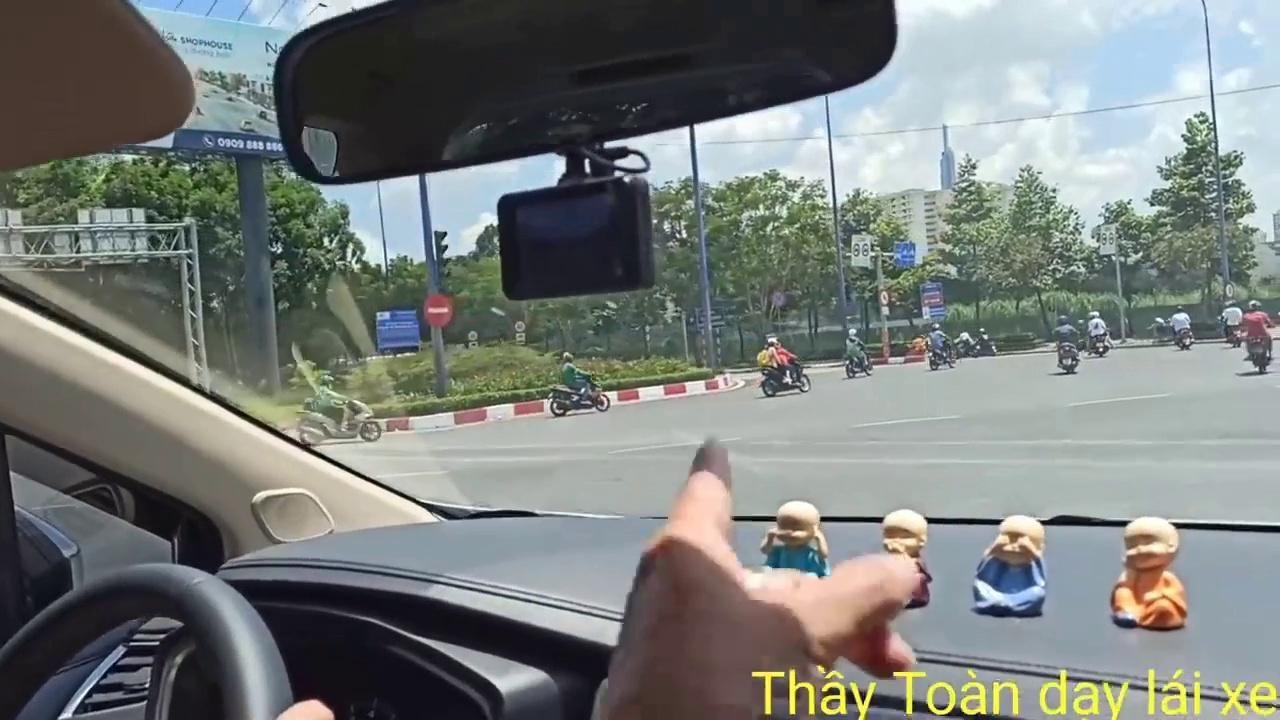Cấm cac phương tiện hoạt động trong khung giờ cố định: (849, 233, 872, 268)
Cấm dừng - Cấm đỗ: (771, 289, 788, 307)
Cấm đi ngược chiều: (422, 289, 454, 329)
Khác: (374, 306, 421, 354), (920, 282, 948, 321)
Làn đường cho từng xe: (893, 239, 917, 270)
